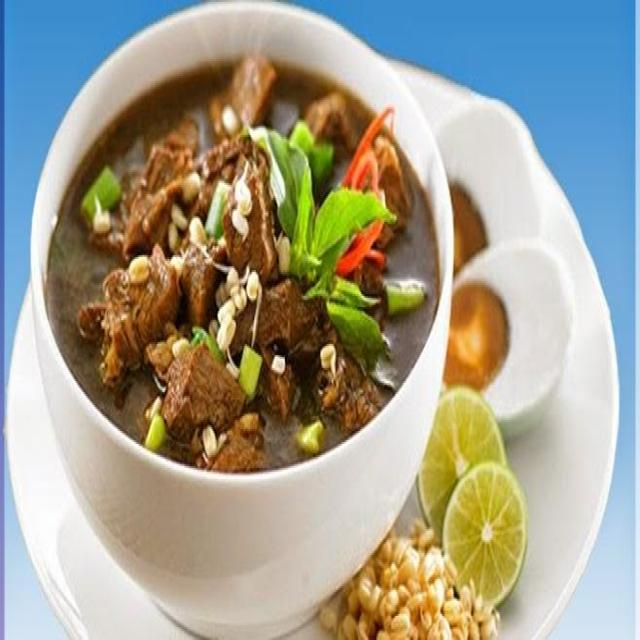Rawon: (36, 67, 436, 479)
